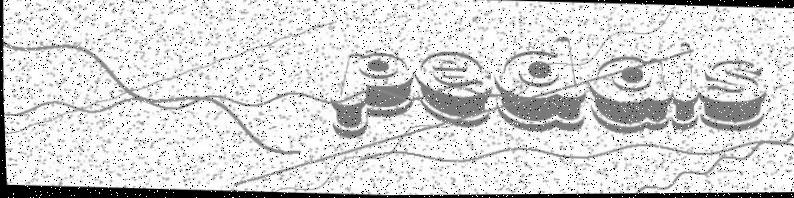a: (581, 52, 673, 138)
d: (479, 34, 590, 135)
e: (410, 48, 493, 130)
i: (663, 38, 701, 132)
p: (327, 44, 418, 143)
s: (691, 52, 768, 134)
